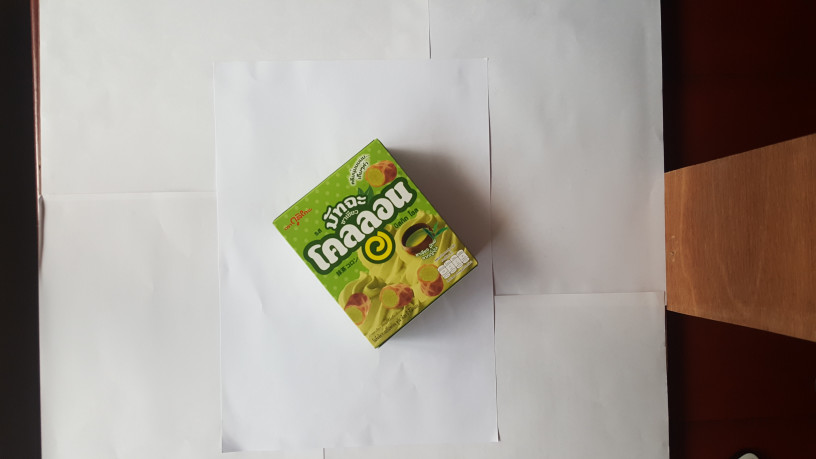collon-matcha: (274, 139, 481, 348)
